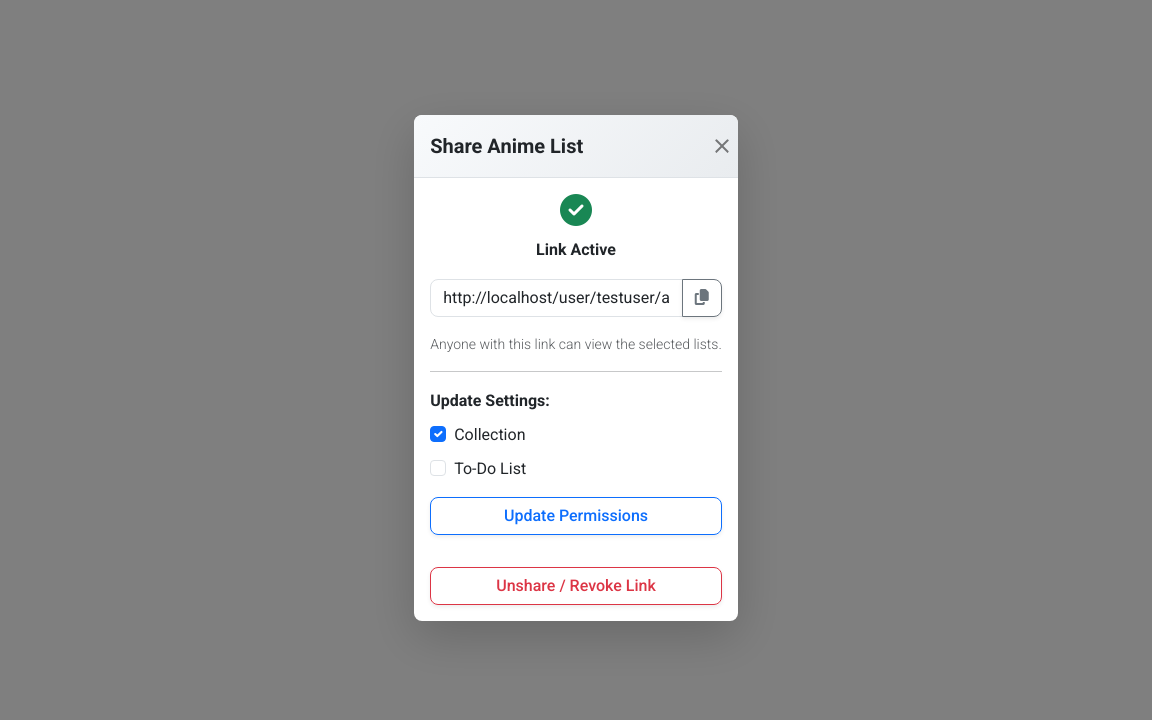
Test: ShareLinkModal › shows "Generate Public Link" again after successful revoke
Click the button "Unshare / Revoke Link" at (576, 586), box [430, 567, 722, 605]
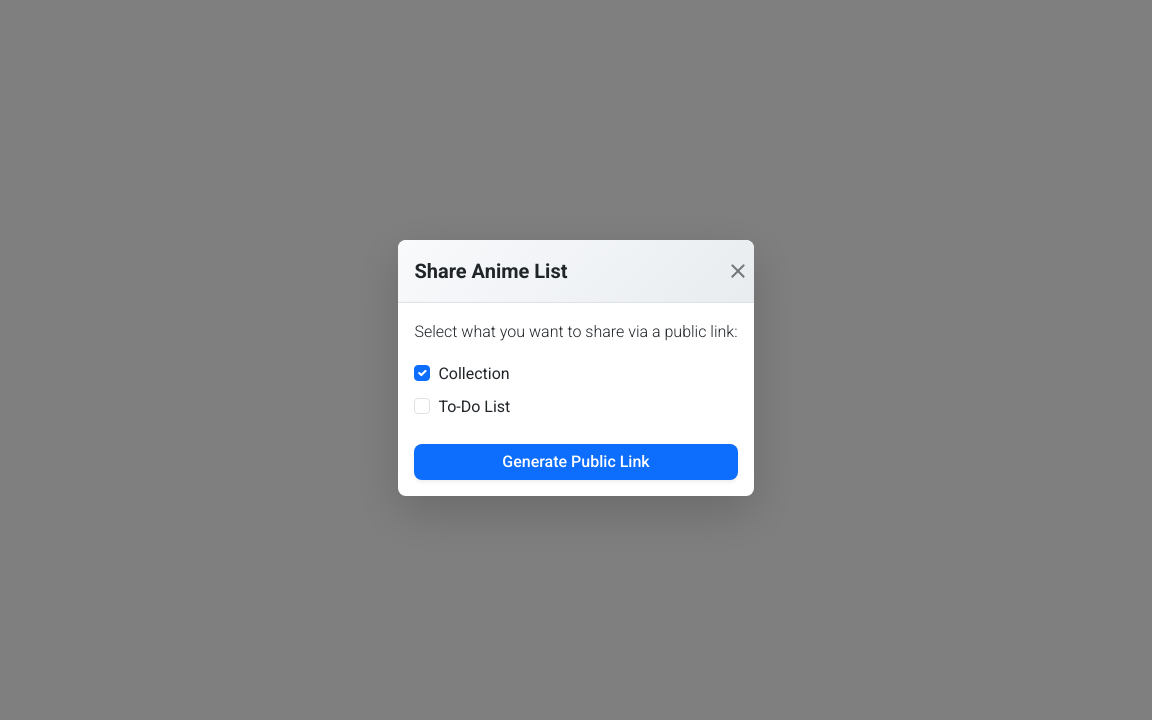
Expected: the button "Generate Public Link" is shown, [414, 444, 738, 480]
